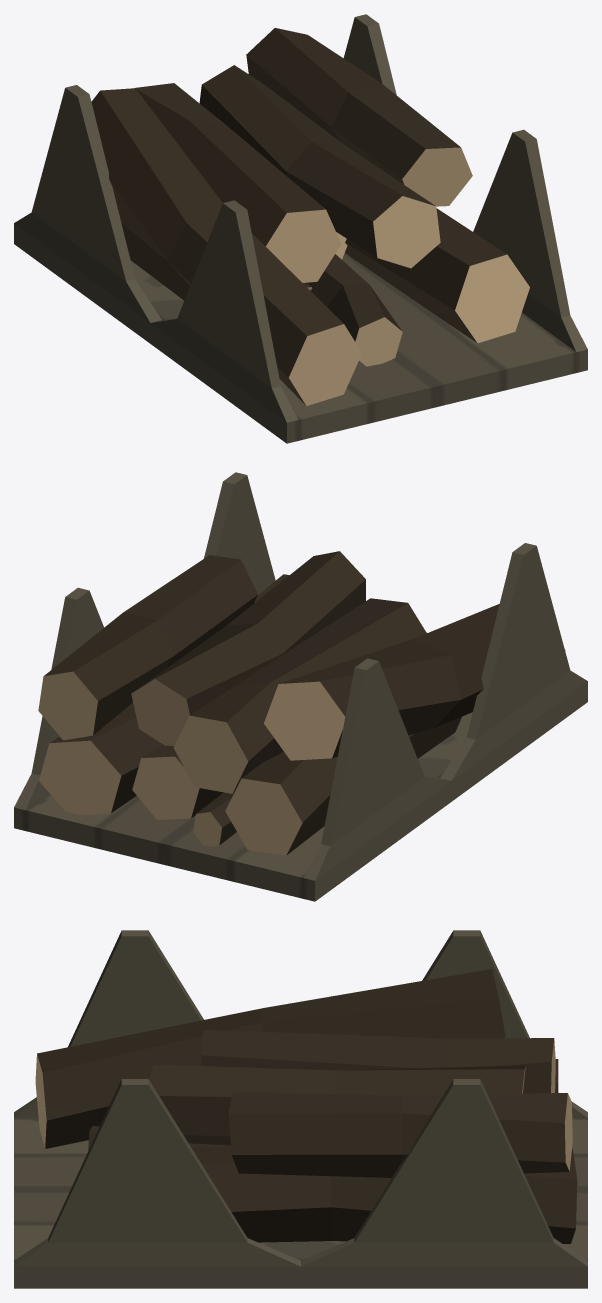
Rendered from Logs.fbx.
3 views of the same model, one above another, from view 1: azimuth 30°, elevation 25°; view 2: azimuth 150°, elevation 25°; view 3: azimuth 270°, elevation 25° (orthographic). The views are drawn at different scales.
Visible parts, largest first — view 1: Logs; view 2: Logs; view 3: Logs.
Boxes of the visible parts, <box> form: Logs: <box>14,14,587,443</box>; Logs: <box>14,472,587,901</box>; Logs: <box>14,930,587,1288</box>.
Bounding box in the file's own units: 169 × 104 × 265.
